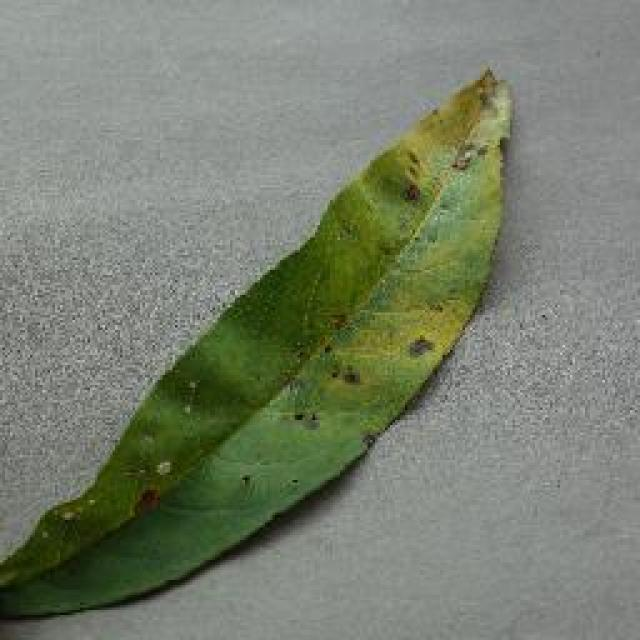Bacterial_spot: (98, 62, 520, 562)
